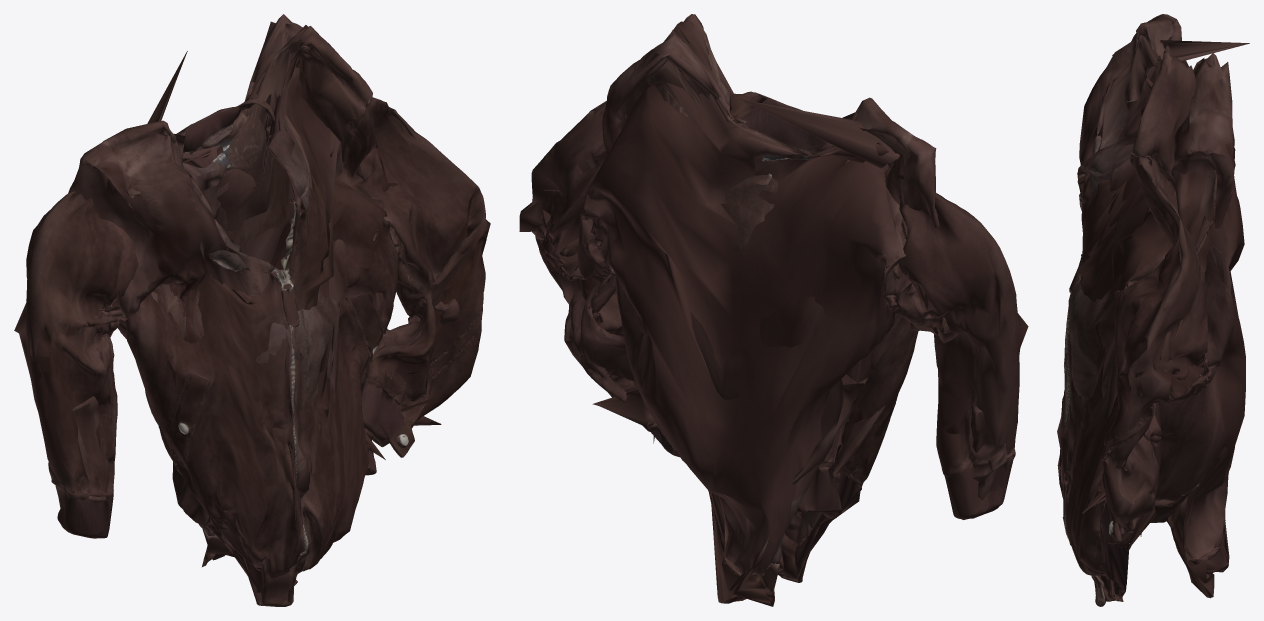
The model's file is brown_jacket.glb.
3 renders of one model, left to right at view 1: azimuth 30°, elevation 25°; view 2: azimuth 150°, elevation 25°; view 3: azimuth 270°, elevation 25°, orthographic. The views are drawn at different scales.
Parts seen in each view (by area): view 1: Mesh_0.001; view 2: Mesh_0.001; view 3: Mesh_0.001.
Part boxes in pixels (x1,y1,x2,y2): Mesh_0.001: (14,14,490,606); Mesh_0.001: (519,14,1028,606); Mesh_0.001: (1057,14,1249,606).
Bounding box in the file's own units: 1.75 × 1.96 × 0.5893.
Materials: 1 (1 with a texture image).
